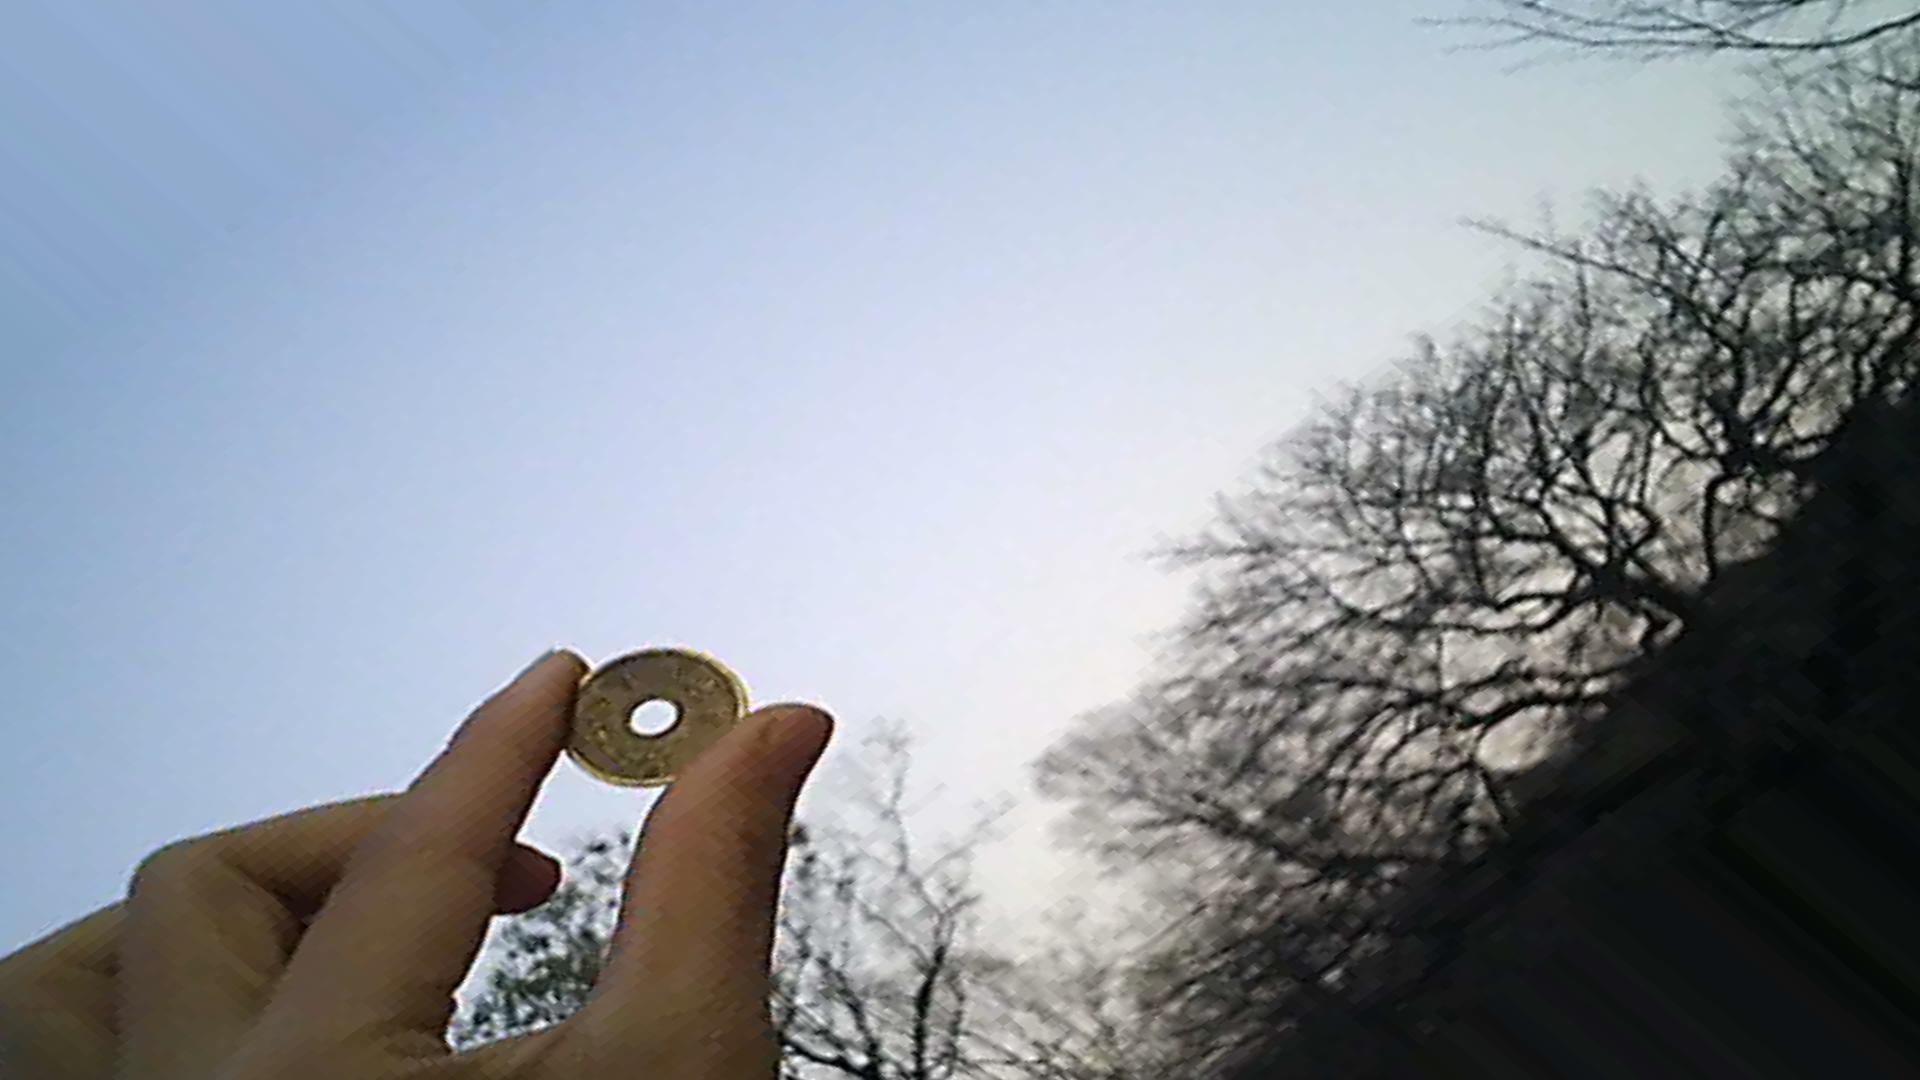5 Yen: (547, 625, 756, 793)
